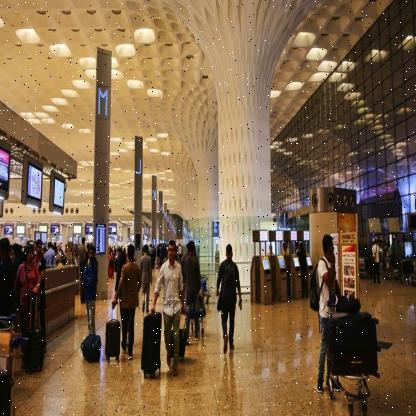airport-trolley: (322, 299, 378, 416), (0, 311, 24, 416)
